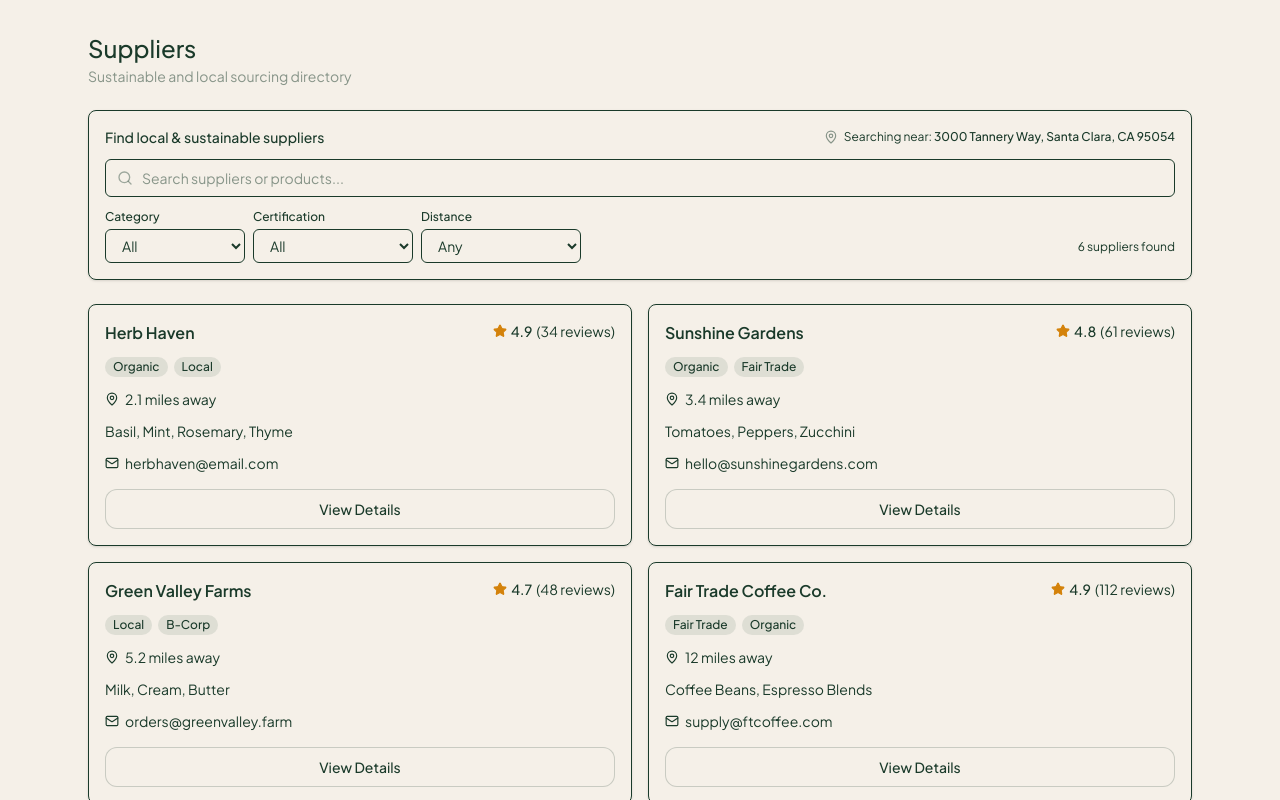
Test: when filtering suppliers by text › shows the empty state when no suppliers match the search
Type "xyznonexistent" into the field with placeholder "Search suppliers or products...".
click(640, 178); type("xyznonexistent")  # box [105,159,1175,197]
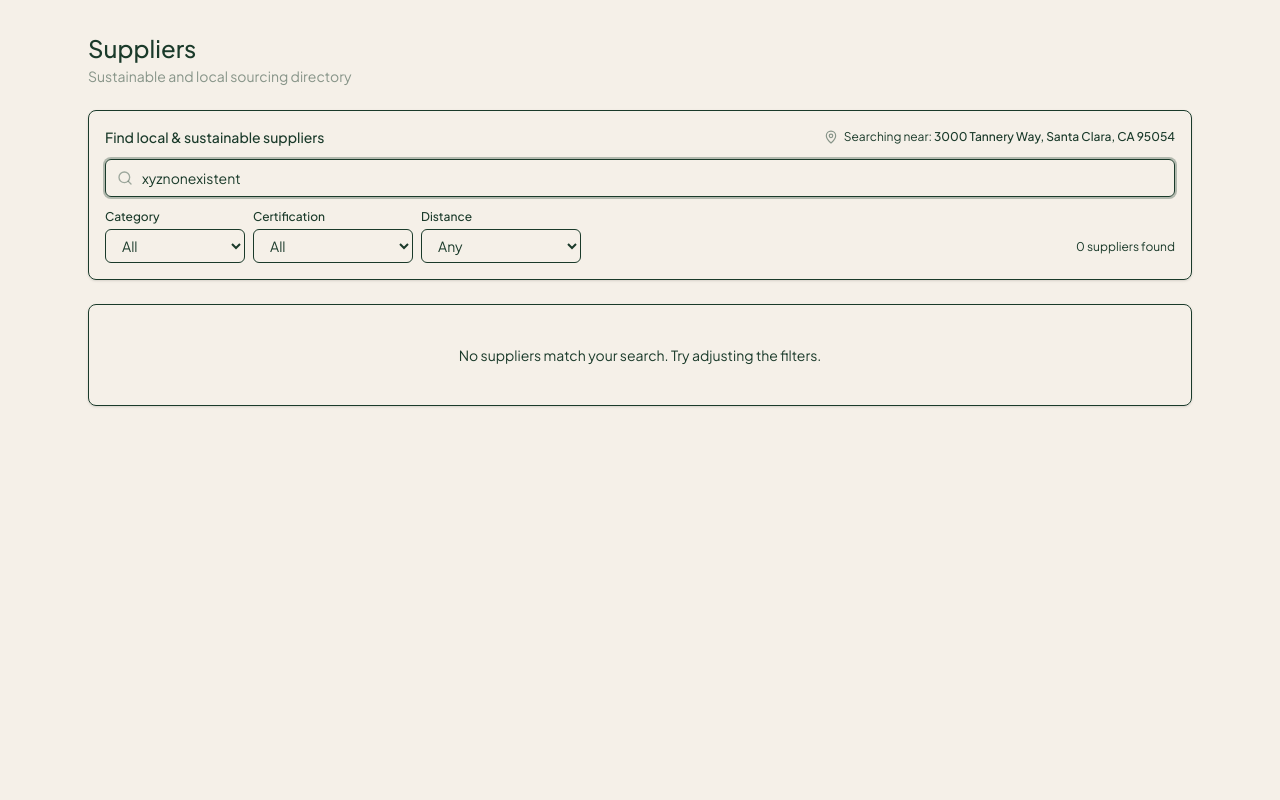
Result: the text "No suppliers match your search. Try adjusting the filters." is shown at [88,304,1192,406]
